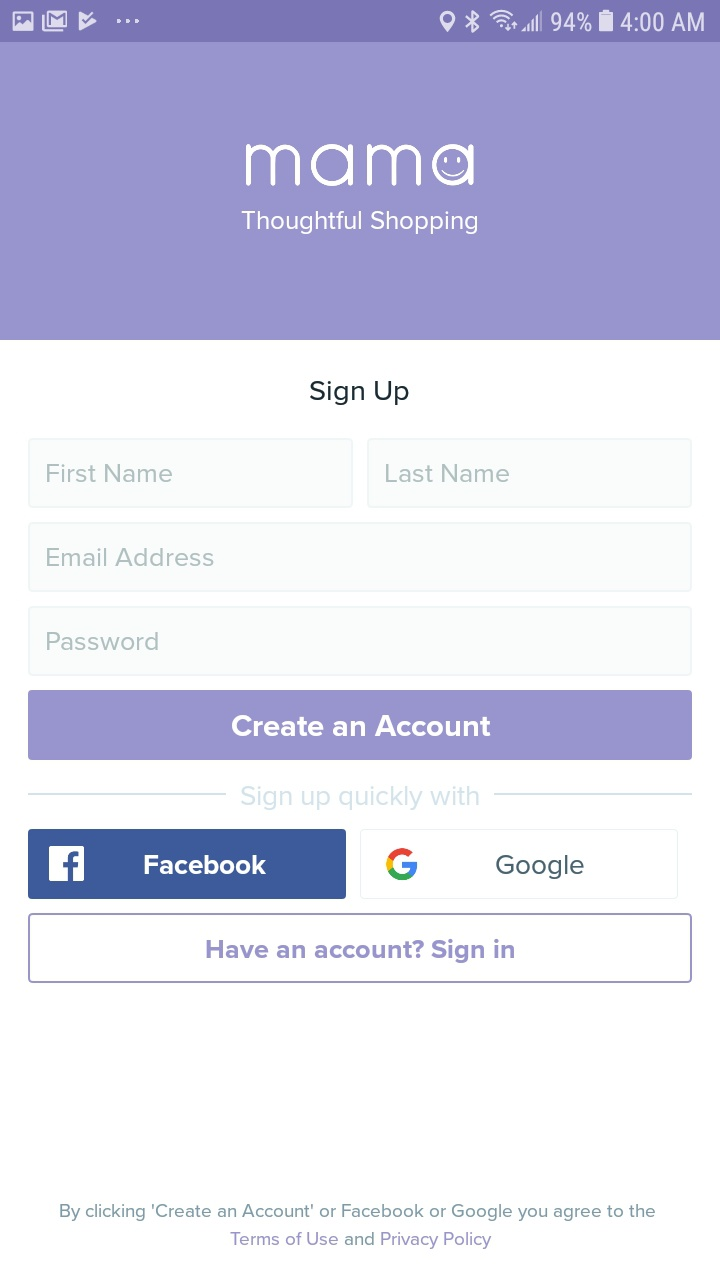EditText: (28, 606, 692, 677), (28, 522, 692, 593), (29, 438, 354, 509), (367, 438, 692, 509)
Image: (245, 143, 475, 189)
Text: (61, 1202, 656, 1250), (241, 786, 480, 812), (241, 211, 478, 236), (47, 548, 214, 567), (310, 380, 410, 406), (47, 464, 173, 483), (386, 464, 510, 483), (47, 632, 159, 651)
TextButton: (28, 690, 692, 761), (29, 913, 693, 984), (28, 829, 347, 900), (361, 829, 679, 900)
UpperTaskBar: (1, 1, 720, 43)
